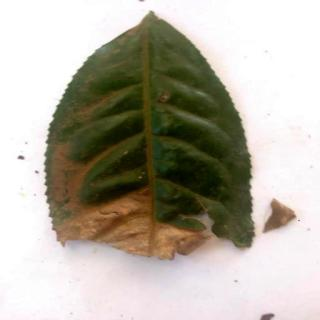Brown Blight: (47, 13, 255, 261)
